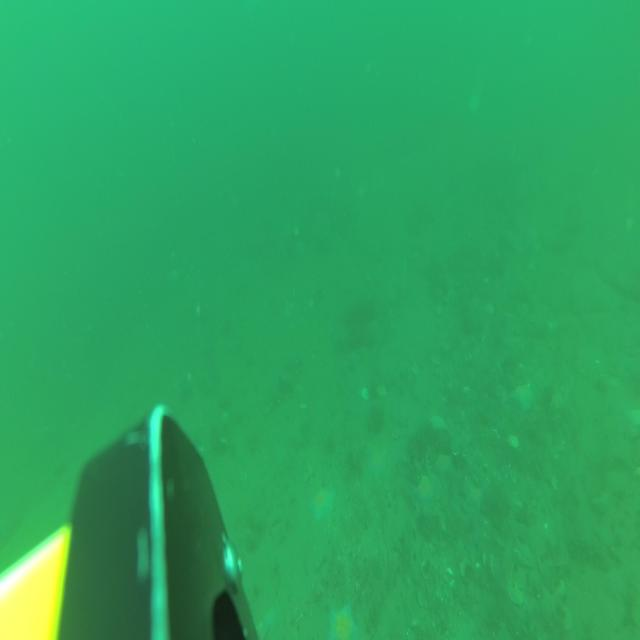holothurian: (564, 531, 613, 577)
scallop: (506, 585, 525, 608)
starfish: (325, 598, 359, 640), (309, 486, 336, 523), (510, 377, 535, 413), (412, 472, 437, 504)
